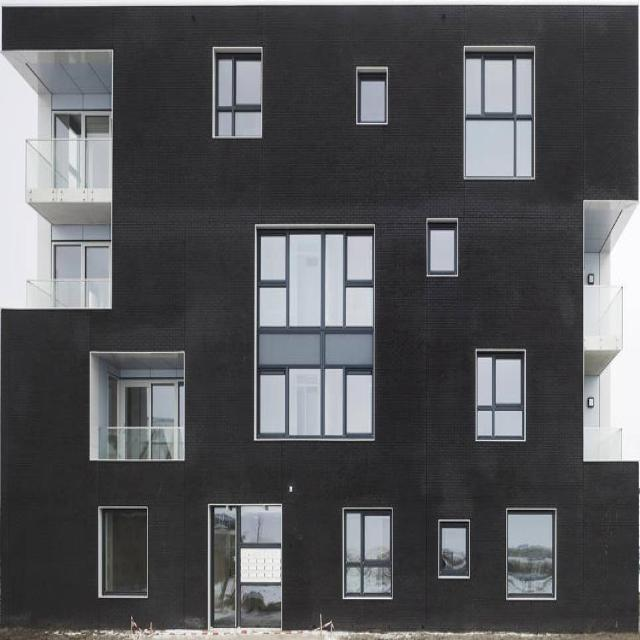door: (212, 509, 283, 627)
railing: (28, 141, 112, 187), (100, 426, 184, 458), (29, 280, 113, 310), (586, 285, 623, 336), (583, 427, 621, 461)
window: (261, 233, 375, 323), (469, 58, 534, 179), (262, 367, 374, 437), (479, 354, 525, 438), (104, 508, 148, 595), (347, 510, 392, 595), (111, 376, 187, 426), (218, 55, 263, 137), (510, 513, 554, 595), (55, 241, 114, 280), (55, 111, 110, 142), (443, 523, 472, 575), (432, 225, 458, 272), (363, 79, 389, 122)
